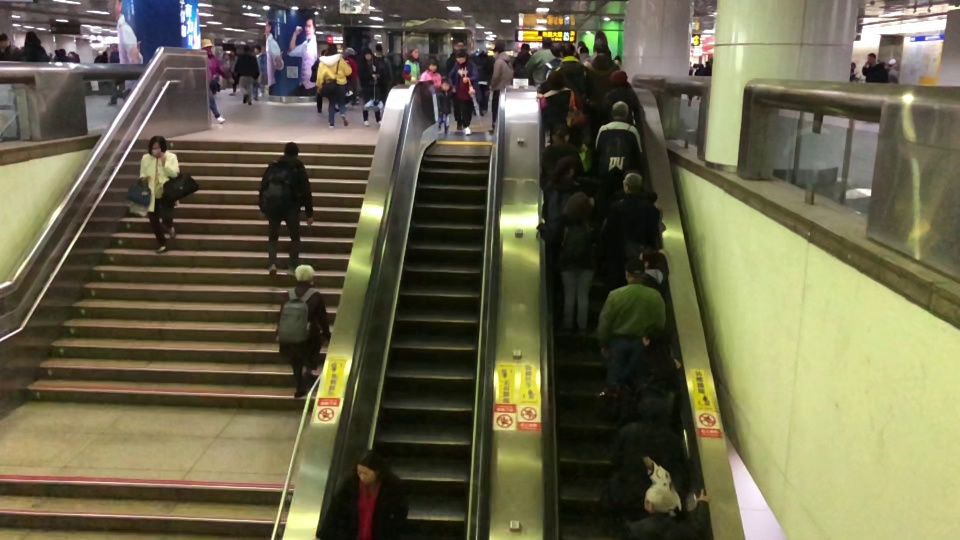person_head: (639, 483, 682, 517), (354, 448, 386, 485), (636, 389, 667, 423), (622, 257, 646, 285), (564, 192, 590, 217), (640, 322, 666, 347), (553, 155, 577, 179), (293, 263, 316, 286), (620, 172, 643, 195), (146, 135, 168, 158), (638, 246, 659, 269), (550, 122, 570, 145), (546, 69, 566, 90), (609, 100, 629, 121), (608, 68, 628, 87), (281, 141, 300, 160), (558, 42, 575, 59), (592, 37, 608, 55), (24, 30, 40, 46), (454, 48, 468, 64), (324, 42, 338, 56), (200, 38, 213, 53), (426, 57, 438, 73), (492, 42, 505, 56), (452, 38, 464, 52), (541, 36, 552, 51), (440, 78, 451, 92), (578, 46, 589, 60), (343, 47, 355, 59), (362, 48, 373, 61), (408, 47, 419, 60), (519, 43, 530, 56), (0, 32, 8, 49), (373, 43, 383, 56), (866, 53, 876, 64), (887, 57, 896, 69), (108, 42, 117, 52), (242, 44, 250, 54), (58, 47, 66, 56), (479, 50, 488, 58), (253, 46, 261, 54), (68, 50, 77, 57), (229, 48, 236, 56), (320, 49, 327, 57), (54, 49, 58, 55)
person_vbox: (607, 389, 691, 540), (595, 257, 666, 398), (535, 191, 604, 336), (590, 172, 662, 304), (312, 448, 410, 540), (274, 263, 331, 398), (260, 141, 314, 280), (612, 322, 681, 430), (618, 483, 713, 540), (138, 135, 181, 254), (594, 100, 643, 196), (535, 69, 587, 145), (538, 122, 585, 194), (583, 68, 641, 125), (315, 43, 352, 130), (200, 37, 235, 124), (447, 48, 481, 137), (542, 155, 581, 222), (536, 42, 584, 95), (487, 41, 513, 134), (584, 37, 619, 100), (356, 48, 383, 126), (309, 49, 340, 113), (232, 44, 260, 106), (523, 35, 556, 86), (445, 38, 464, 122), (471, 50, 494, 115), (638, 246, 665, 296), (373, 42, 393, 104), (435, 78, 455, 134), (343, 47, 360, 106), (19, 30, 49, 62), (107, 42, 122, 106), (251, 45, 266, 101), (420, 56, 442, 91), (0, 32, 25, 62), (401, 47, 420, 85), (226, 47, 239, 96), (512, 43, 530, 78), (861, 53, 880, 82), (885, 57, 899, 84), (849, 62, 860, 82), (57, 47, 69, 61), (68, 50, 80, 63), (694, 63, 705, 76), (704, 61, 713, 76), (52, 49, 58, 63)
